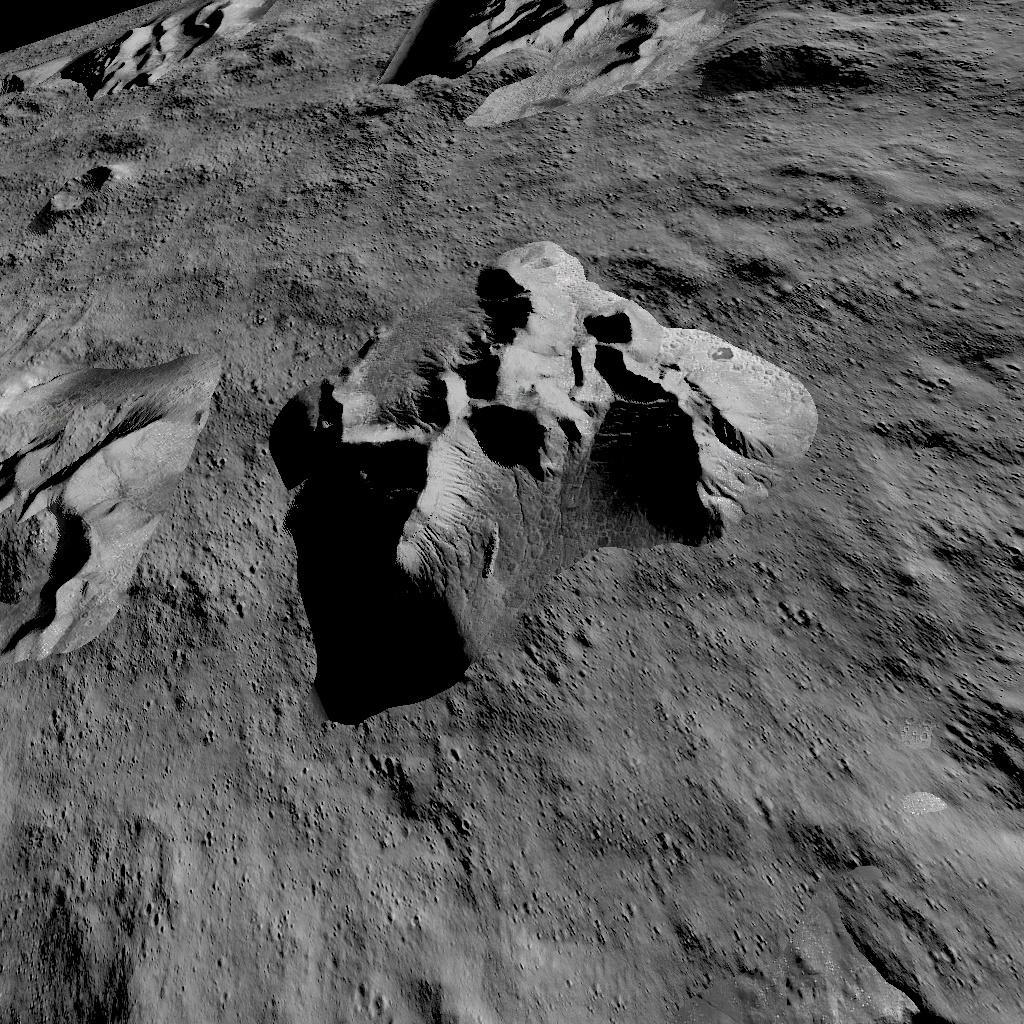Boulders: (266, 233, 822, 719), (3, 332, 225, 671), (373, 0, 710, 111), (0, 0, 254, 130), (721, 2, 881, 101)
Crater: (767, 933, 1024, 1024), (27, 148, 131, 224), (963, 703, 1024, 818), (260, 35, 308, 88)
Plan surface: (12, 737, 736, 1024), (836, 232, 1020, 652), (156, 145, 1023, 213), (760, 733, 940, 911), (6, 240, 248, 319), (901, 2, 1024, 108)
